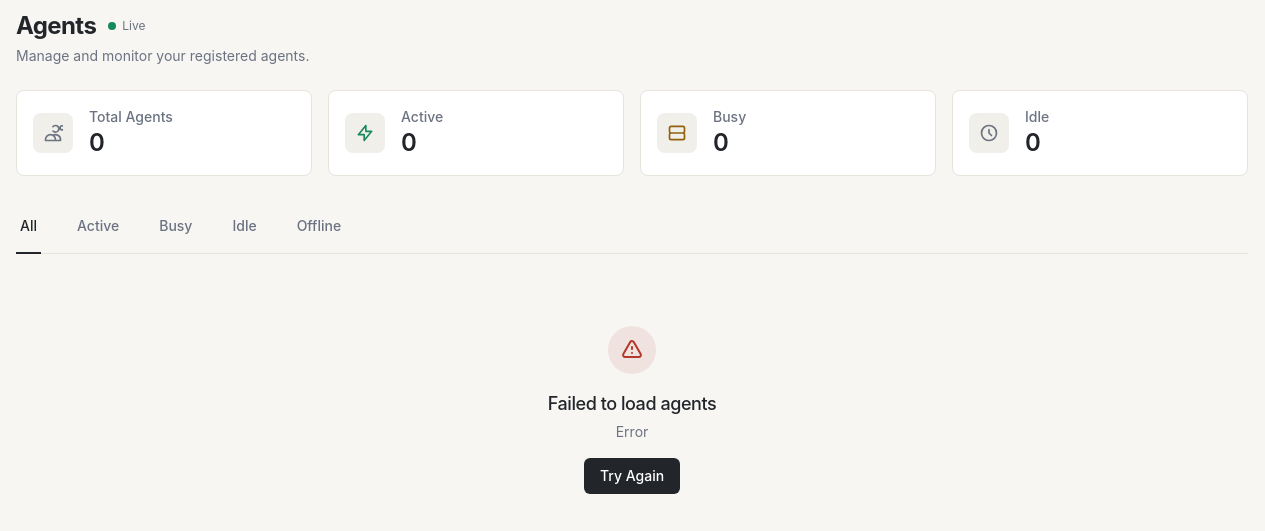
Test case: AgentsDashboard › allows retry after error
Expected: the heading "Failed to load agents" is shown, x1=548 y1=390 x2=716 y2=418
Click retry button.
Click the button "Try Again".
click(632, 476)  # box x1=584 y1=458 x2=680 y2=494
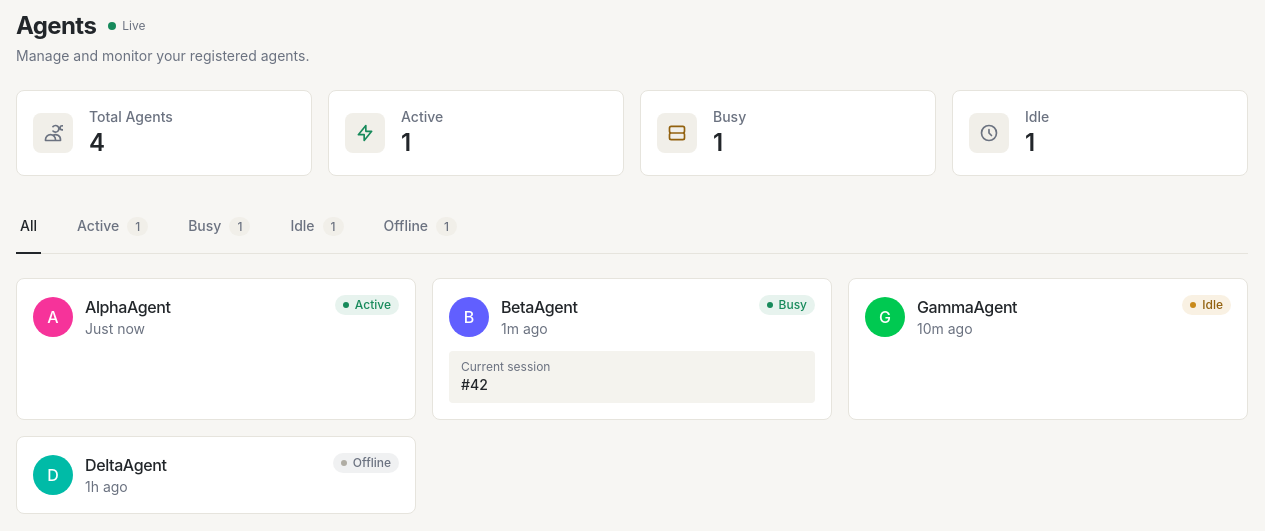
Expected: the heading "AlphaAgent" is shown, x1=85 y1=297 x2=171 y2=317
